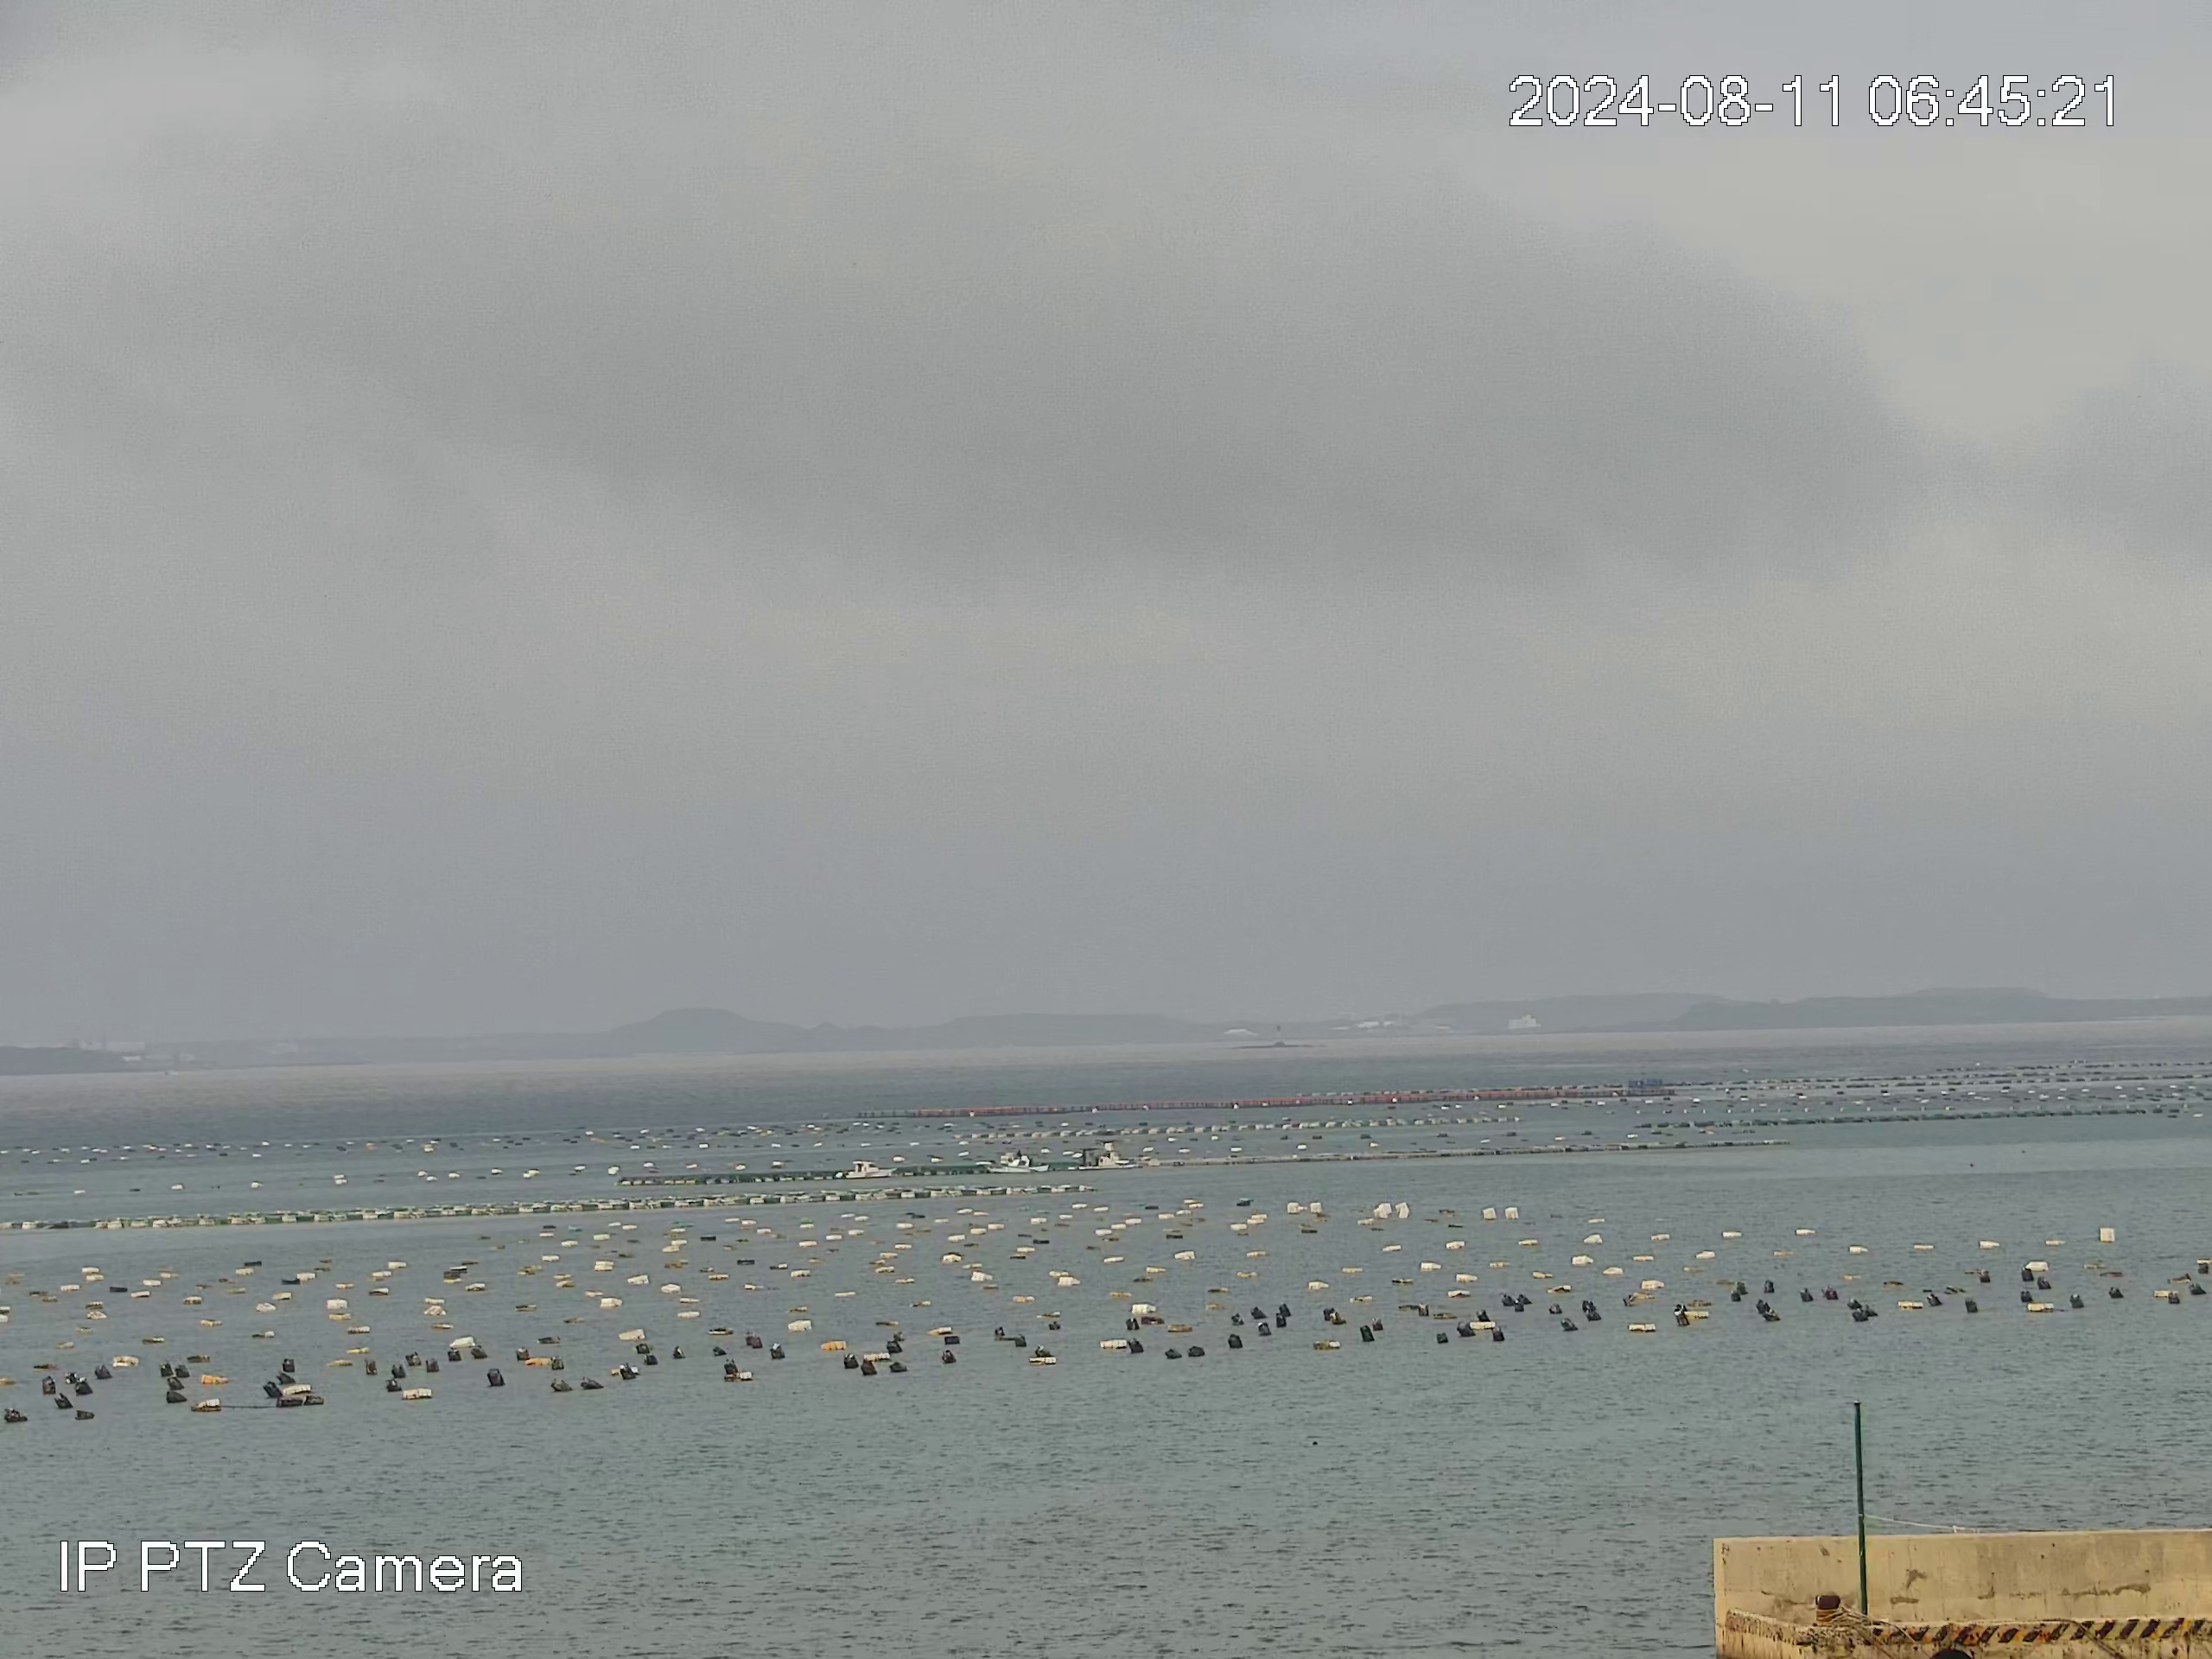boat: (981, 1152, 1050, 1175), (833, 1159, 894, 1178), (1064, 1154, 1116, 1171)
